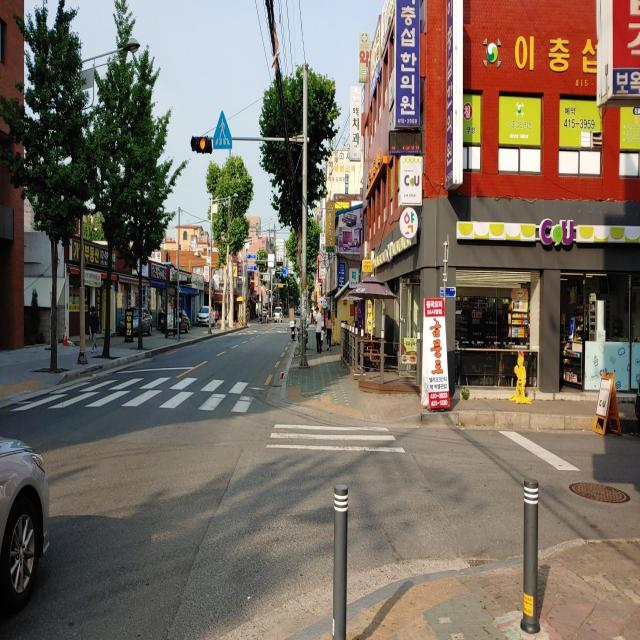횡단보도: (11, 378, 271, 412), (266, 422, 406, 455)
